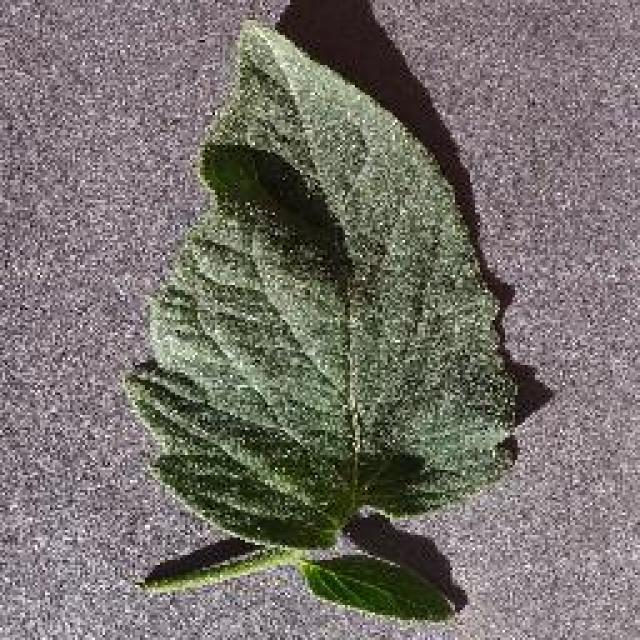Tomato___healthy: (108, 17, 521, 625)
